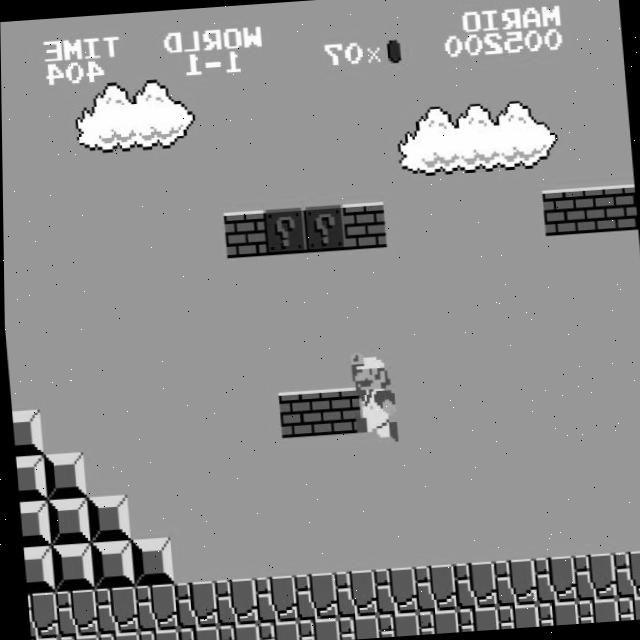1- brick_block: (316, 386, 361, 436), (341, 202, 386, 250), (222, 210, 267, 258), (277, 389, 321, 438), (581, 185, 625, 232), (541, 188, 585, 235), (621, 184, 637, 230)
13- mystery_block: (301, 204, 346, 252), (261, 207, 306, 255)
17- undestructible_block: (451, 560, 496, 610), (52, 588, 97, 638), (570, 552, 615, 601), (530, 555, 575, 604), (411, 563, 456, 612), (371, 566, 416, 615), (331, 569, 376, 618), (252, 574, 296, 624), (490, 558, 535, 606), (291, 572, 336, 620), (212, 577, 256, 626), (172, 580, 216, 629), (132, 583, 176, 632), (92, 586, 136, 634), (25, 591, 57, 639), (610, 549, 640, 598), (574, 598, 617, 624), (534, 600, 577, 626), (494, 603, 537, 629), (454, 606, 497, 632), (415, 608, 458, 634), (375, 612, 418, 638), (335, 614, 378, 640), (294, 617, 337, 640), (254, 620, 297, 640), (215, 622, 258, 640), (614, 594, 640, 620), (175, 625, 218, 640), (135, 628, 178, 640), (95, 631, 138, 640), (55, 634, 98, 640)
4- fire_mario: (349, 346, 399, 444)
9- hard_block: (48, 542, 93, 592), (128, 537, 173, 586), (85, 494, 129, 544), (88, 540, 133, 588), (45, 497, 89, 546), (41, 452, 85, 499), (10, 408, 42, 456), (14, 454, 46, 502), (21, 546, 53, 594), (18, 500, 49, 548)
